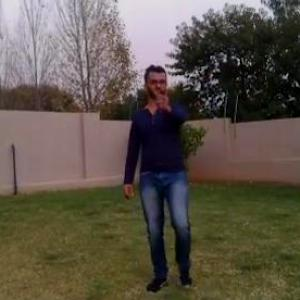takeoff-hand: (149, 80, 176, 116)
